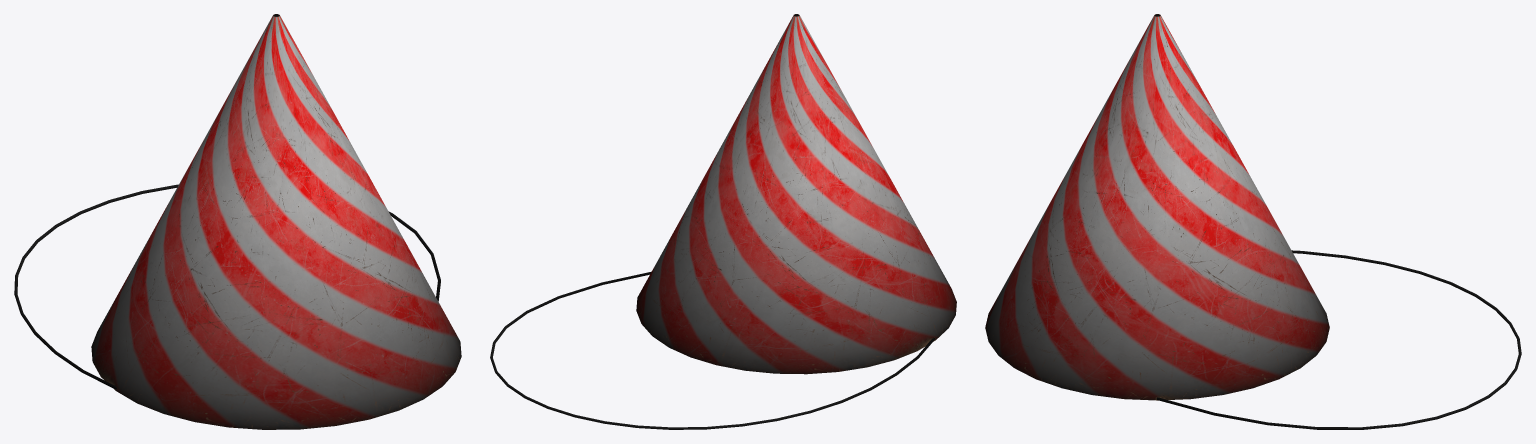
Rendered from party_hat.glb.
The picture shows the model from 3 angles, left to right: view 1: azimuth 30°, elevation 25°; view 2: azimuth 150°, elevation 25°; view 3: azimuth 270°, elevation 25°; orthographic projection. The views are drawn at different scales.
Parts seen in each view (by area): view 1: NurbsPath; view 2: NurbsPath; view 3: NurbsPath.
Part boxes in pixels (x1,y1,x2,y2): NurbsPath: [14, 14, 461, 429]; NurbsPath: [490, 14, 956, 429]; NurbsPath: [985, 14, 1521, 429].
Size of the model in its own units: 1.19 by 0.9616 by 1.5.
1 material, 1 textured.
